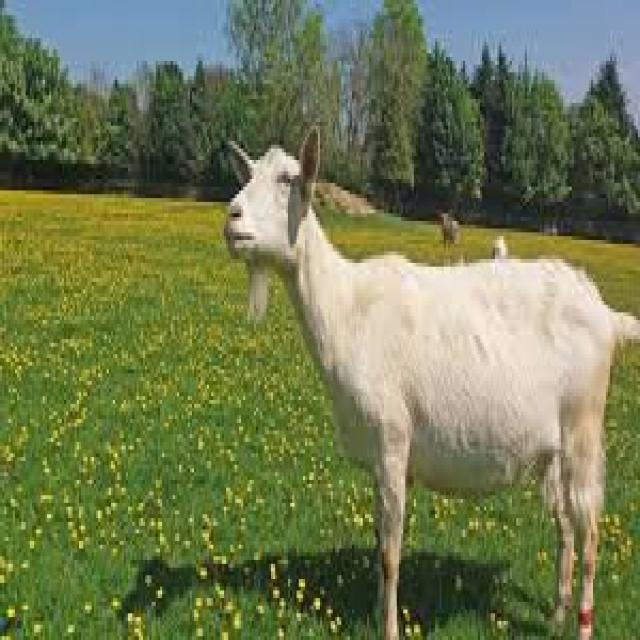goat: (226, 130, 640, 636)
